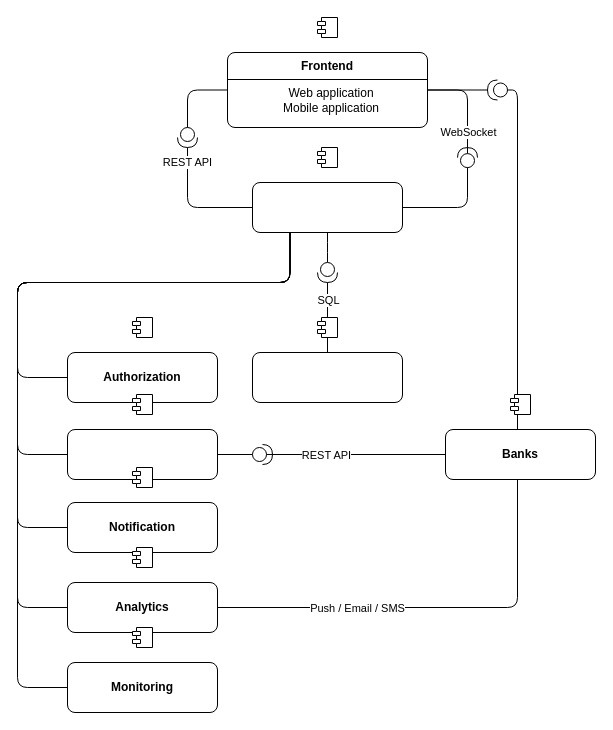
Image size: 613x730. Some labels were removed from this diagram. The shapes that lost their labels are listed below. From the top down, each one's centre as x and y in pixels, then its label:
At pixel 327 207: "Backend".
At pixel 327 377: "Database".
At pixel 142 454: "Payment Gateway".
